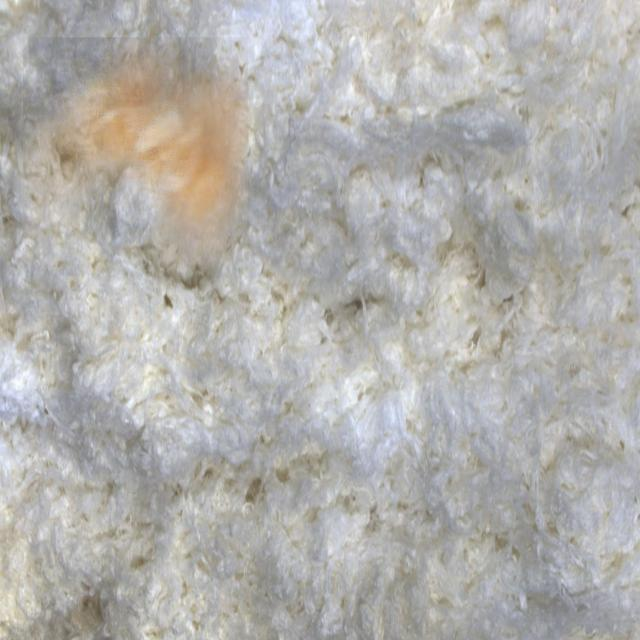dust: (23, 37, 248, 265)
